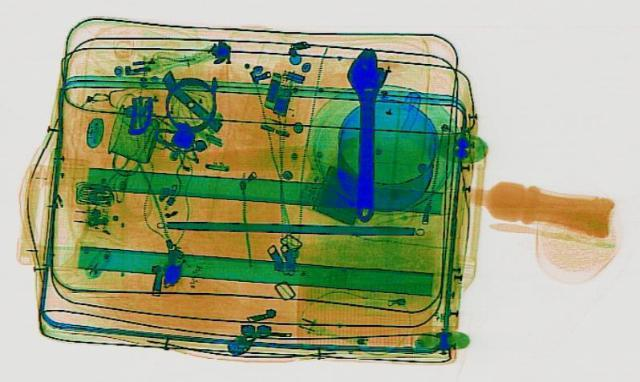Wrench: (344, 47, 386, 220)
